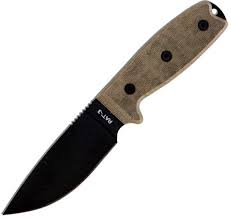knife: (2, 1, 231, 218)
